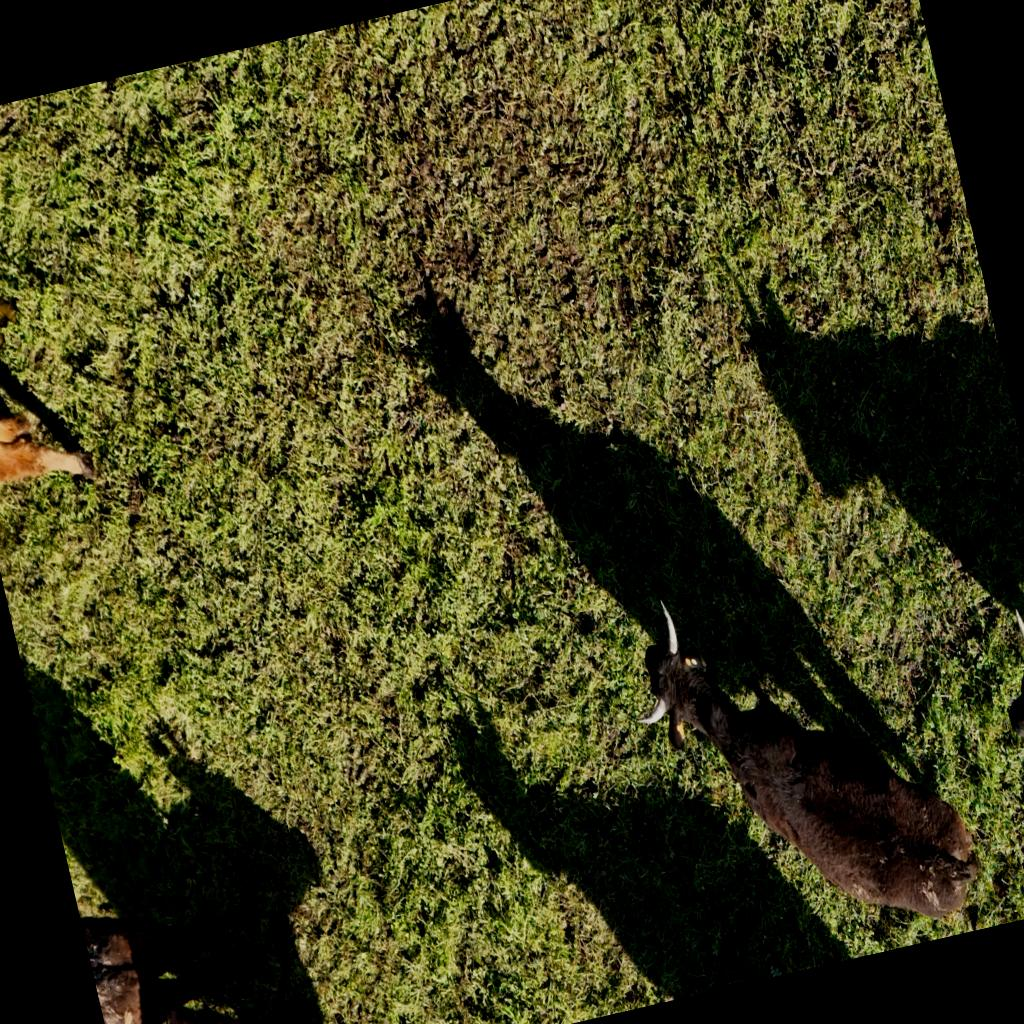cow: (622, 554, 976, 974)
